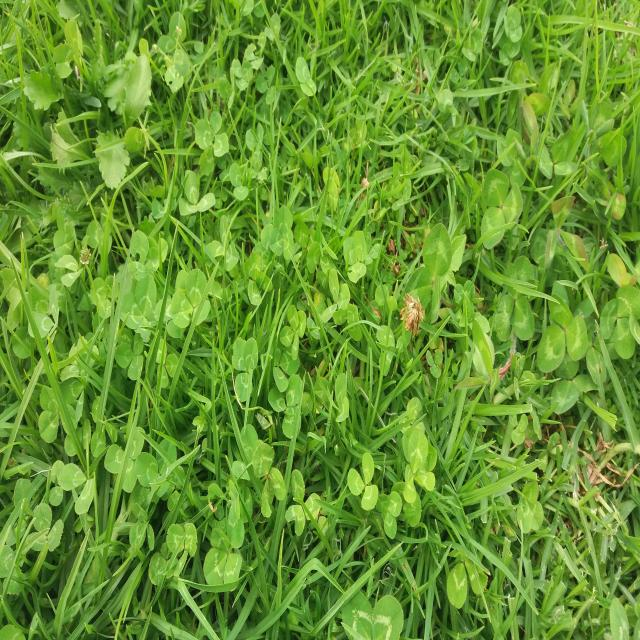Four Leaf Clover: (279, 304, 306, 361)
